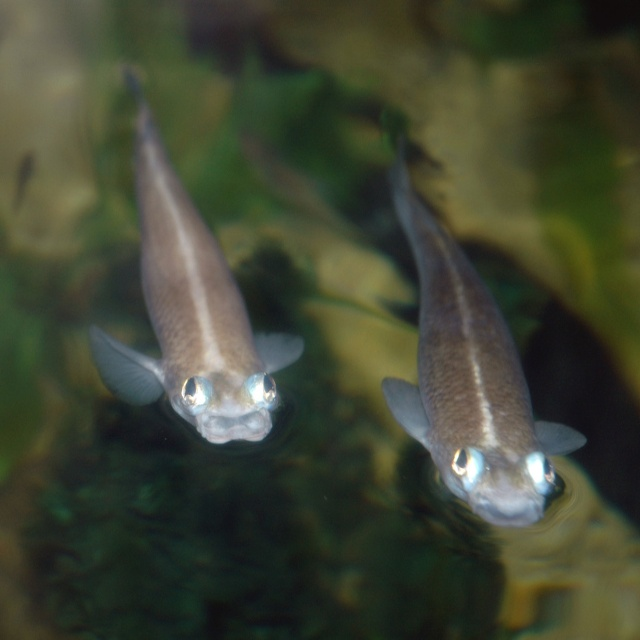Fish: (86, 106, 308, 443), (386, 146, 582, 525)
